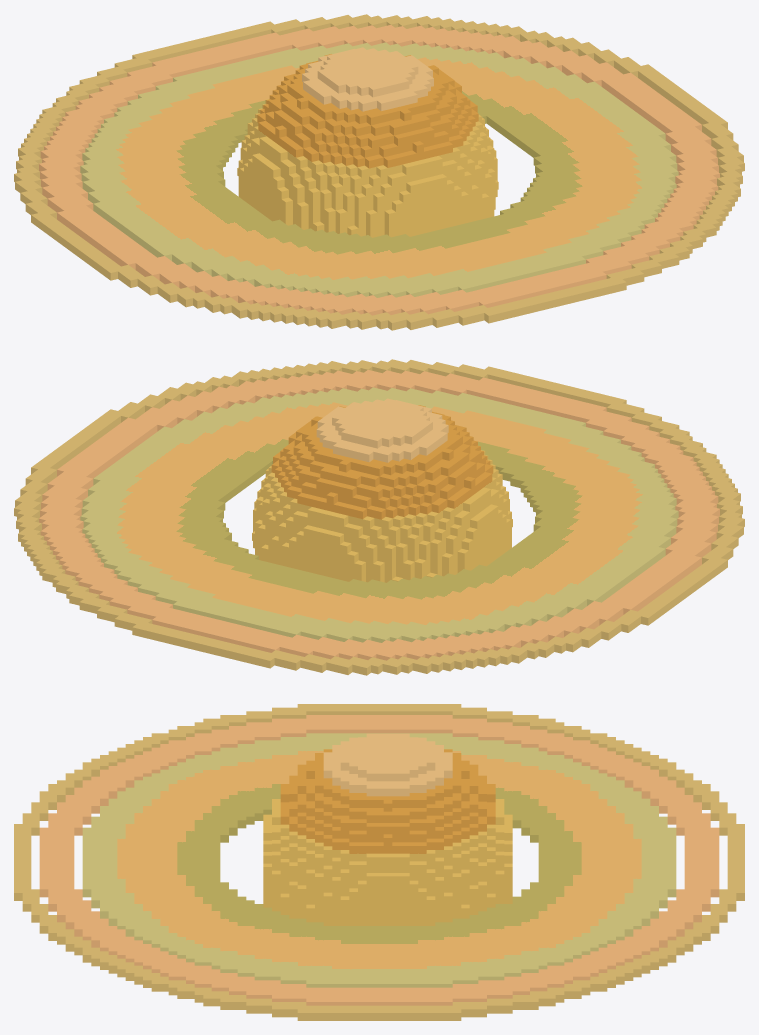
3 views of the same model, one above another, from view 1: azimuth 30°, elevation 25°; view 2: azimuth 150°, elevation 25°; view 3: azimuth 270°, elevation 25° (orthographic). The views are drawn at different scales.
Visible parts, largest first — view 1: Object; view 2: Object; view 3: Object.
Part boxes in pixels (x1,y1,x2,y2): Object: (14, 14, 744, 330); Object: (14, 359, 744, 675); Object: (14, 704, 744, 1020).
Size of the model in its own units: 85 by 29 by 85.
Materials: 1 (1 with a texture image).
